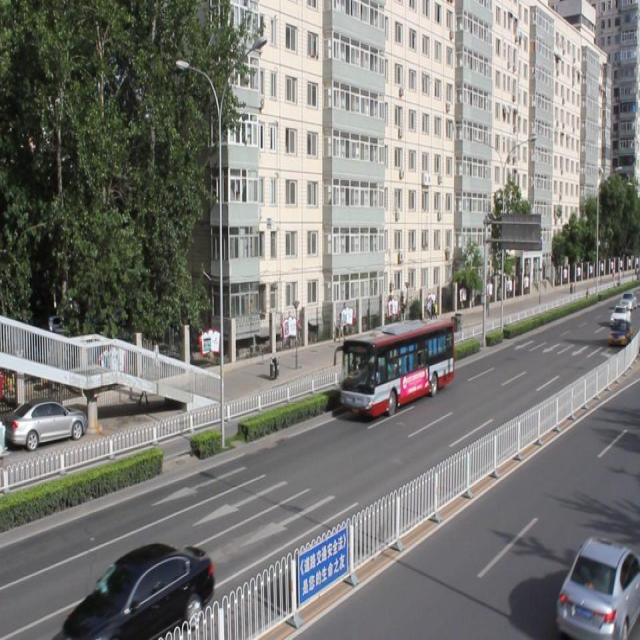car: (60, 539, 213, 640), (556, 533, 640, 639)
van: (340, 318, 454, 417)
